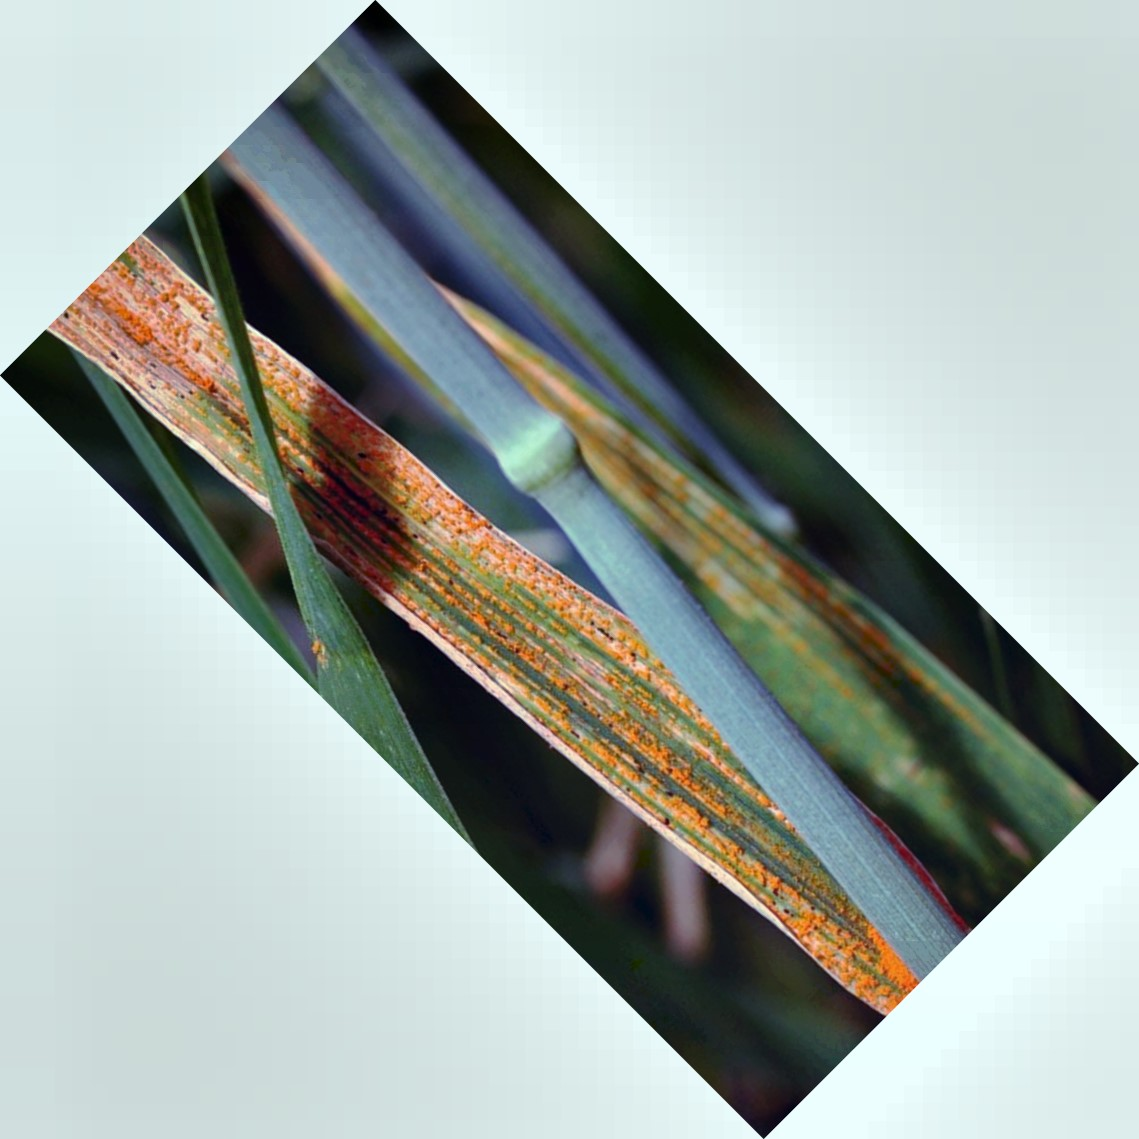Leaf Rust: (110, 299, 869, 958)
